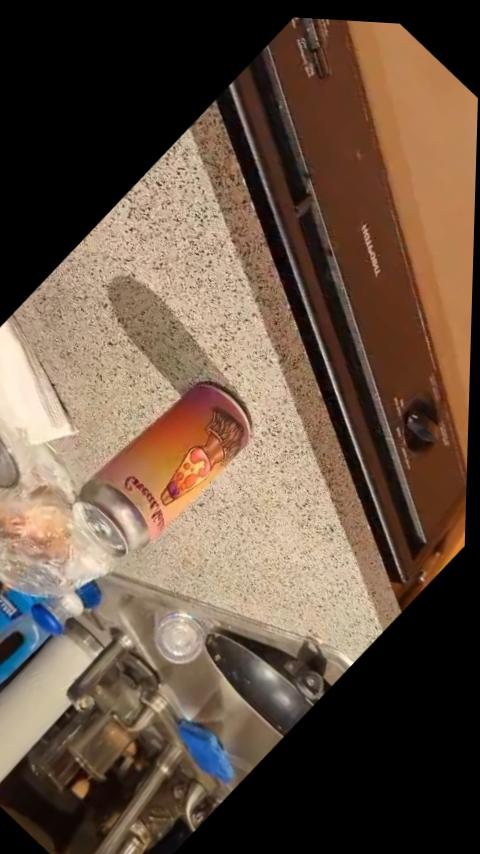metal: (219, 19, 476, 596), (80, 382, 250, 555)
